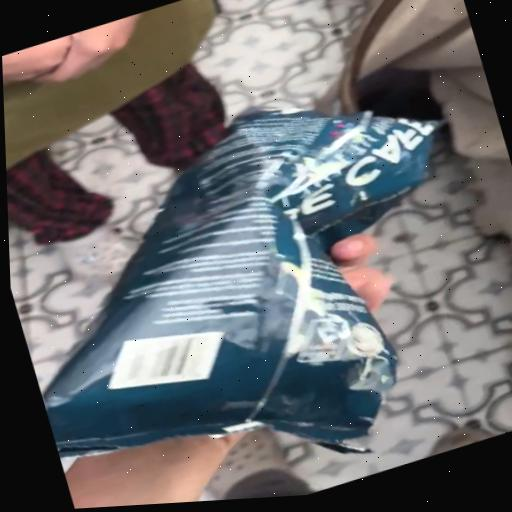cafe_hat: (45, 109, 436, 457)
